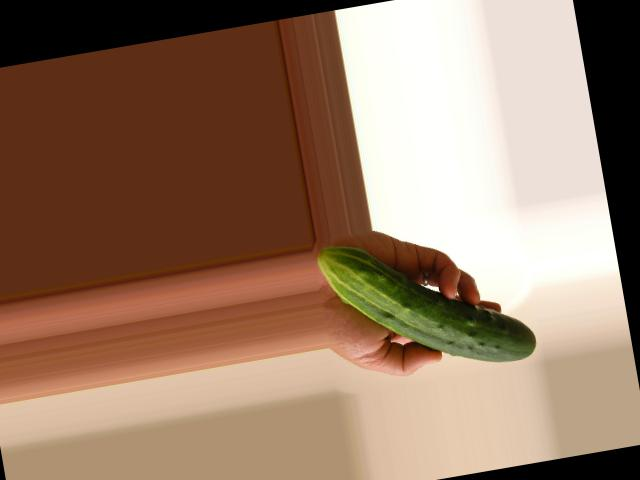cucumber: (316, 214, 538, 389)
